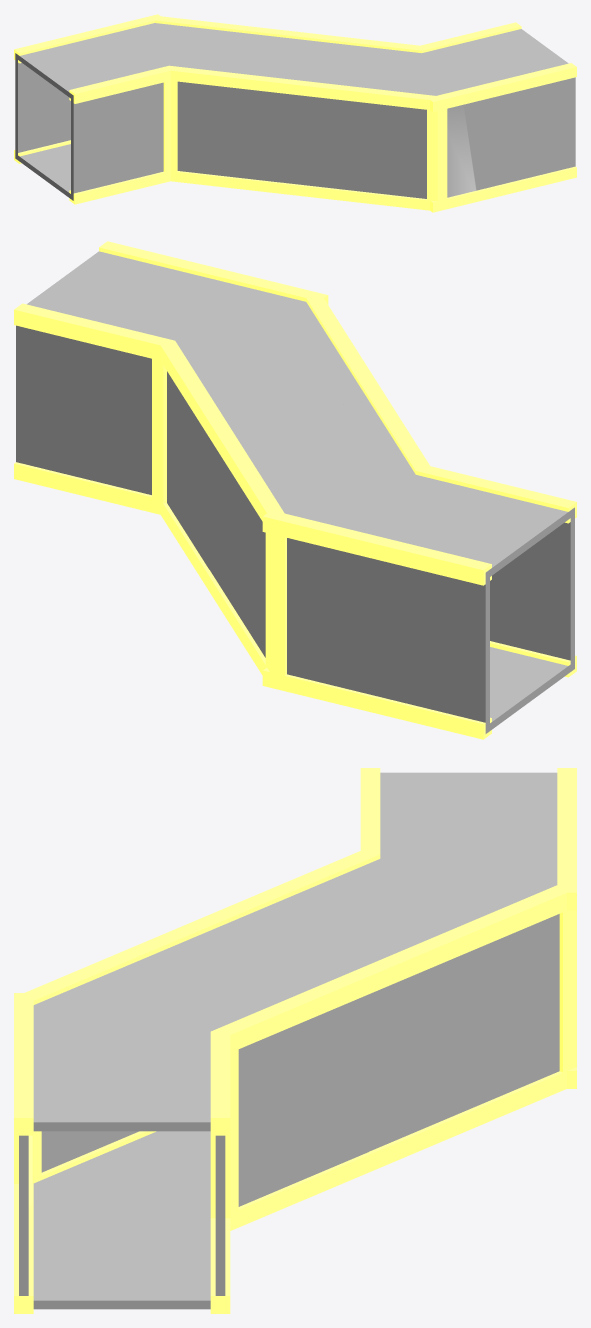
3 views of the same model, one above another, from view 1: azimuth 30°, elevation 25°; view 2: azimuth 150°, elevation 25°; view 3: azimuth 270°, elevation 25° (orthographic). The views are drawn at different scales.
Parts seen in each view (by area): view 1: wall, light; view 2: wall, light; view 3: wall, light.
Boxes of the visible parts, x1,y1,x2,y2 form: wall: (15, 23, 575, 200); light: (14, 14, 576, 212); wall: (16, 251, 574, 733); light: (14, 241, 576, 739); wall: (19, 772, 559, 1309); light: (14, 768, 576, 1313).
Size of the model in its own units: 84.16 by 22 by 57.24.
